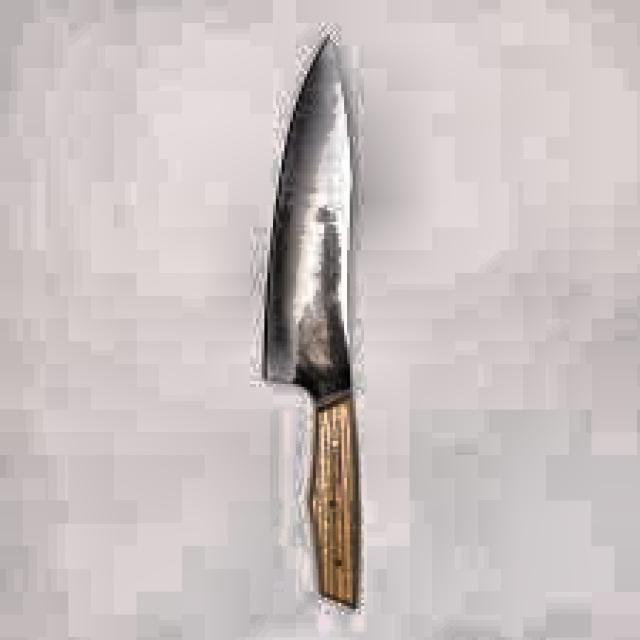knife: (263, 39, 360, 612)
